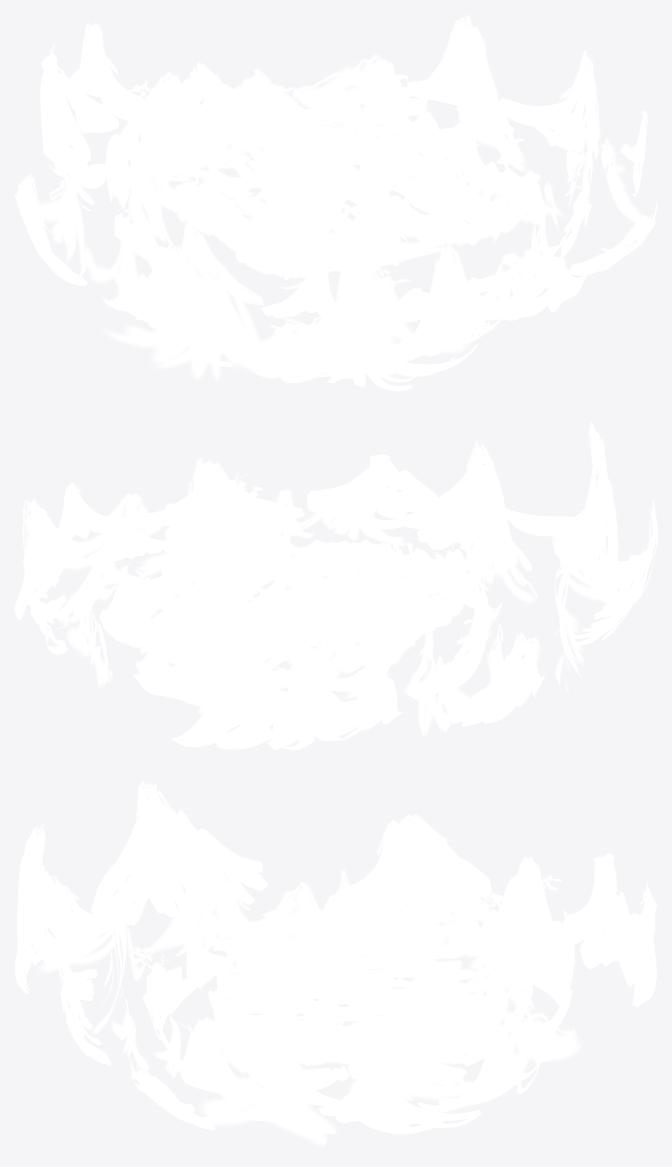
The model's file is encounter.glb.
3 views of the same model, one above another, from view 1: azimuth 30°, elevation 25°; view 2: azimuth 150°, elevation 25°; view 3: azimuth 270°, elevation 25° (orthographic). The views are drawn at different scales.
Parts seen in each view (by area): view 1: Marker_geo_Marker_0, SoftHighlighter_geo_SoftHighlighter_0, Flat_geo_Flat_0, Highlighter_geo_Highlighter_0, Paper_geo_Paper_0, Splatter_geo_Splatter_0, DuctTape_geo_DuctTape_0; view 2: Marker_geo_Marker_0, SoftHighlighter_geo_SoftHighlighter_0, Flat_geo_Flat_0, Highlighter_geo_Highlighter_0, Paper_geo_Paper_0, Splatter_geo_Splatter_0, DuctTape_geo_DuctTape_0; view 3: Marker_geo_Marker_0, SoftHighlighter_geo_SoftHighlighter_0, Flat_geo_Flat_0, Highlighter_geo_Highlighter_0, Paper_geo_Paper_0, Splatter_geo_Splatter_0, DuctTape_geo_DuctTape_0.
Part boxes in pixels (<box>): Marker_geo_Marker_0: <box>15,24,657,391</box>; SoftHighlighter_geo_SoftHighlighter_0: <box>39,57,641,381</box>; Flat_geo_Flat_0: <box>123,72,543,280</box>; Highlighter_geo_Highlighter_0: <box>17,15,647,344</box>; Paper_geo_Paper_0: <box>165,126,505,278</box>; Splatter_geo_Splatter_0: <box>55,70,527,284</box>; DuctTape_geo_DuctTape_0: <box>240,158,456,208</box>; Marker_geo_Marker_0: <box>14,431,657,750</box>; SoftHighlighter_geo_SoftHighlighter_0: <box>56,489,612,738</box>; Flat_geo_Flat_0: <box>99,481,464,692</box>; Highlighter_geo_Highlighter_0: <box>22,422,655,714</box>; Paper_geo_Paper_0: <box>120,558,423,677</box>; Splatter_geo_Splatter_0: <box>117,480,472,683</box>; DuctTape_geo_DuctTape_0: <box>208,549,326,642</box>; Marker_geo_Marker_0: <box>15,788,656,1134</box>; SoftHighlighter_geo_SoftHighlighter_0: <box>37,859,582,1147</box>; Flat_geo_Flat_0: <box>208,892,533,1065</box>; Highlighter_geo_Highlighter_0: <box>21,781,654,1107</box>; Paper_geo_Paper_0: <box>234,948,493,1061</box>; Splatter_geo_Splatter_0: <box>132,875,576,1056</box>; DuctTape_geo_DuctTape_0: <box>299,963,412,1051</box>.
Bounding box in the file's own units: 52.29 × 16.11 × 55.3.
10 materials, 9 textured.
